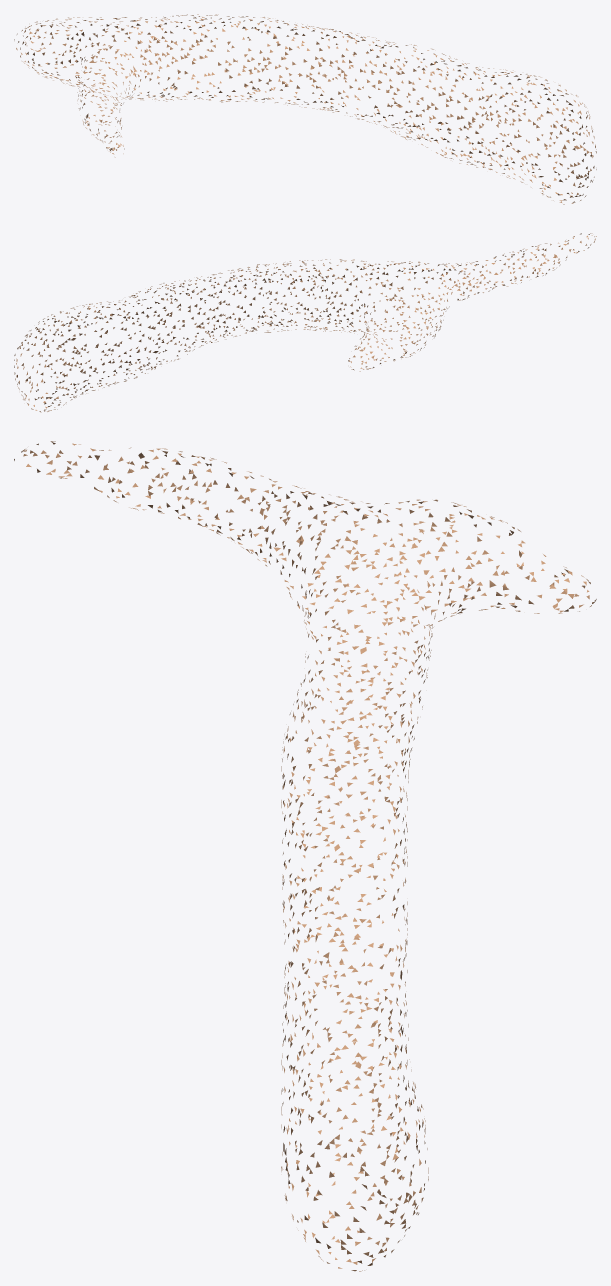
The model's file is morph_005.glb.
3 views of the same model, one above another, from view 1: azimuth 30°, elevation 25°; view 2: azimuth 150°, elevation 25°; view 3: azimuth 270°, elevation 25° (orthographic). The views are drawn at different scales.
Bounding box in the file's own units: 118 × 54.73 × 67.11.
